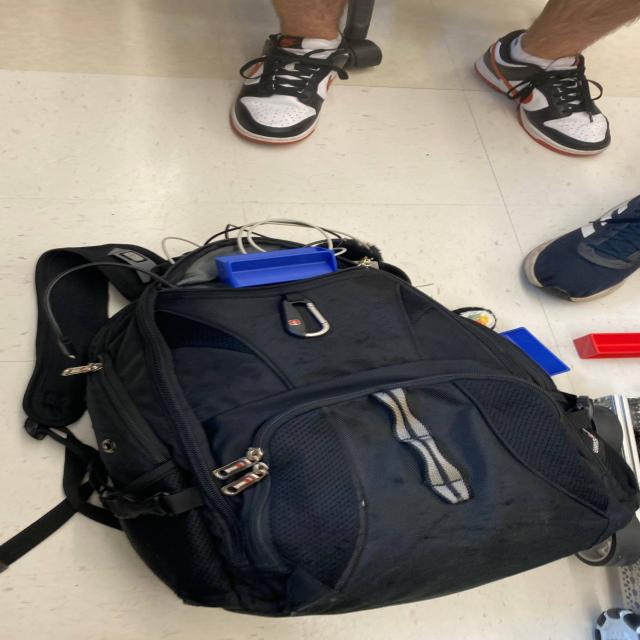blue-specimen: (216, 247, 338, 289), (498, 327, 571, 376)
red-specimen: (572, 332, 640, 359)
